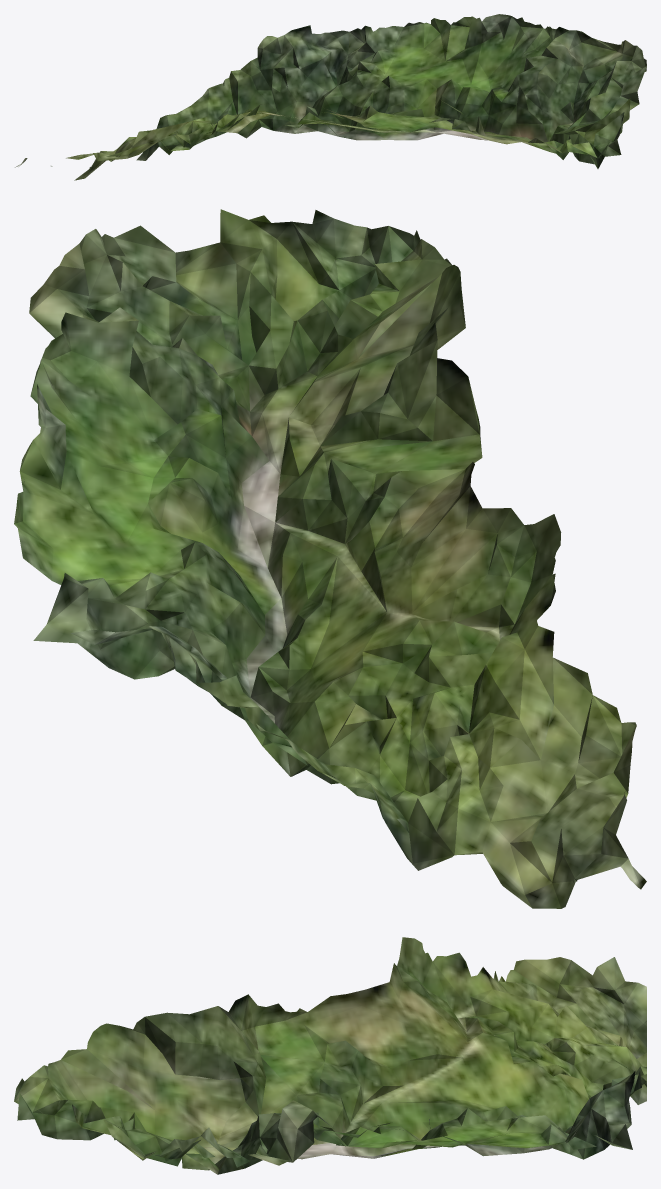
3 views of the same model, one above another, from view 1: azimuth 30°, elevation 25°; view 2: azimuth 150°, elevation 25°; view 3: azimuth 270°, elevation 25° (orthographic). The views are drawn at different scales.
Size of the model in its own units: 652 by 203 by 553.
Materials: 1 (1 with a texture image).
